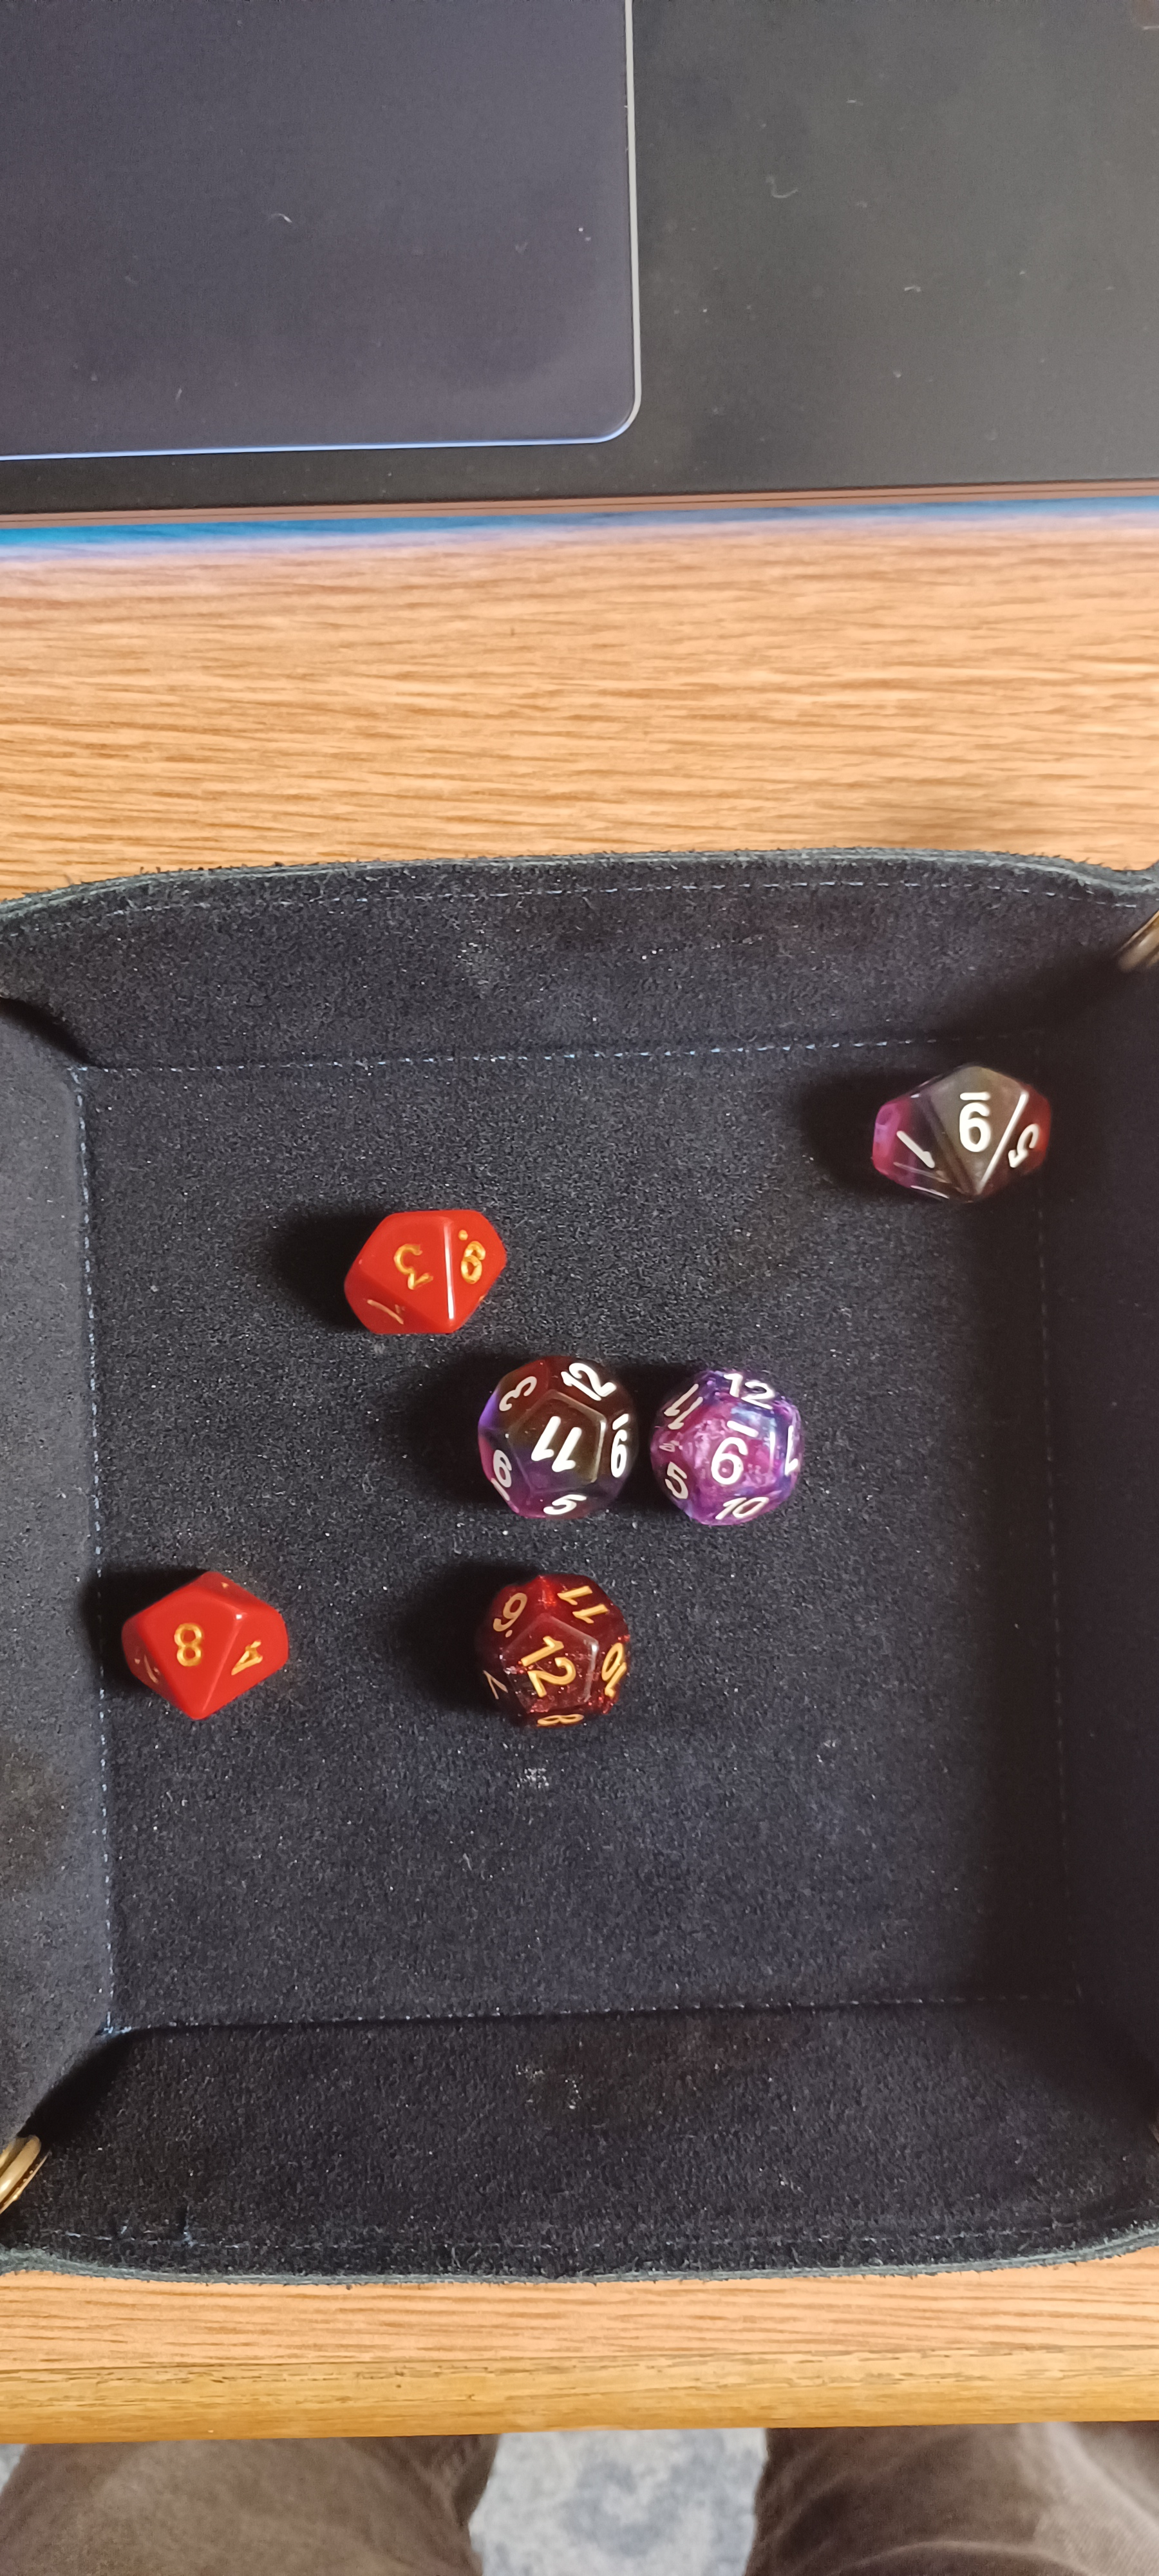eight: (98, 1556, 320, 1738)
eleven: (447, 1349, 658, 1543)
nine: (832, 1019, 1093, 1222), (642, 1345, 819, 1536)
three: (323, 1181, 522, 1345)
twelve: (443, 1534, 667, 1782)
